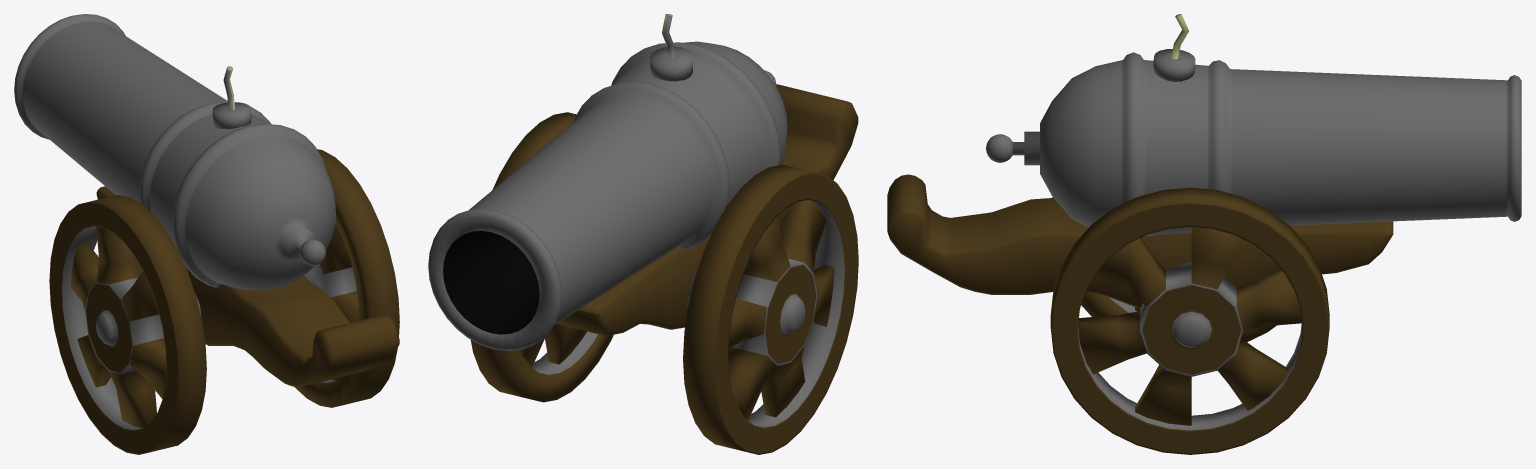
The model's file is LowPolyWarCannon.fbx.
3 views of the same model, side by side, from view 1: azimuth 30°, elevation 25°; view 2: azimuth 150°, elevation 25°; view 3: azimuth 270°, elevation 25° (orthographic). The views are drawn at different scales.
Visible parts, largest first — view 1: Cylinder, Cylinder.001, Cube, Circle, Sphere; view 2: Cylinder, Cylinder.001, Cube, Circle; view 3: Cylinder, Cylinder.001, Cube, Circle, Sphere.
Part boxes in pixels (bbox=[...]): Cylinder: bbox=[14, 14, 336, 289]; Cylinder.001: bbox=[49, 149, 399, 454]; Cube: bbox=[96, 186, 399, 387]; Circle: bbox=[212, 66, 251, 128]; Sphere: bbox=[299, 239, 325, 265]; Cylinder: bbox=[428, 41, 787, 350]; Cylinder.001: bbox=[470, 112, 858, 454]; Cube: bbox=[557, 84, 858, 335]; Circle: bbox=[649, 14, 692, 81]; Cylinder: bbox=[1012, 52, 1521, 238]; Cylinder.001: bbox=[1050, 187, 1329, 454]; Cube: bbox=[887, 174, 1393, 308]; Circle: bbox=[1153, 14, 1195, 81]; Sphere: bbox=[986, 134, 1012, 162].
Bounding box in the file's own units: 158 × 219 × 330.
